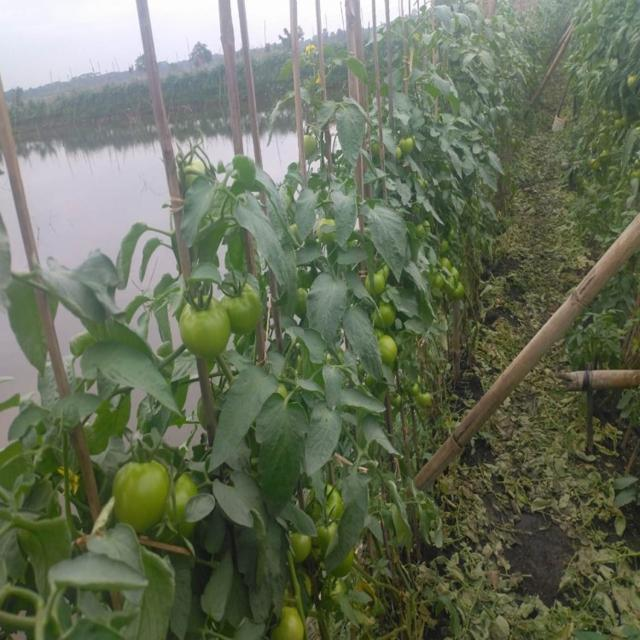tomato: (101, 450, 170, 535), (179, 296, 236, 359), (216, 276, 262, 332), (165, 471, 202, 527), (283, 522, 318, 566), (274, 599, 310, 640), (311, 485, 346, 523), (368, 303, 401, 334), (314, 509, 341, 540), (360, 272, 384, 302), (447, 270, 472, 298), (370, 334, 395, 361), (428, 270, 447, 302), (401, 127, 425, 151), (411, 215, 435, 235), (436, 260, 459, 280), (624, 72, 640, 89), (304, 124, 314, 149)
